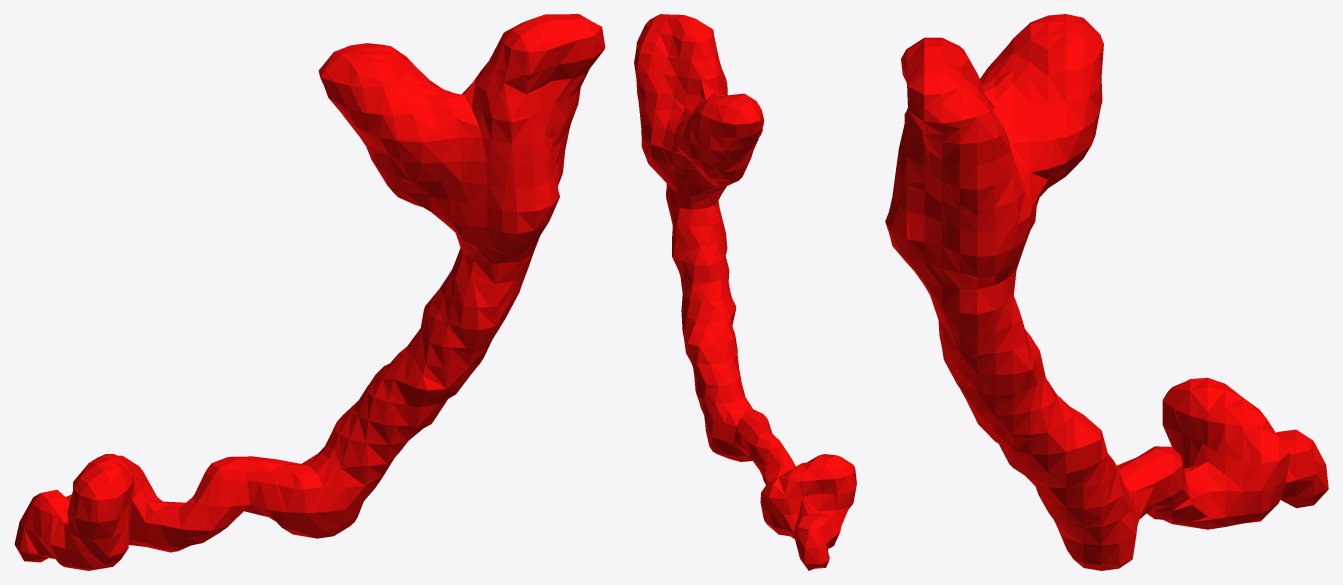
File: grpE_coarse.dae
3 views of the same model, side by side, from view 1: azimuth 30°, elevation 25°; view 2: azimuth 150°, elevation 25°; view 3: azimuth 270°, elevation 25° (orthographic). The views are drawn at different scales.
Parts seen in each view (by area): view 1: grpE; view 2: grpE; view 3: grpE.
Boxes of the visible parts, <box> form: grpE: <box>14,14,605,570</box>; grpE: <box>634,14,856,570</box>; grpE: <box>885,14,1328,570</box>.
Bounding box in the file's own units: 91.35 × 119 × 72.9.
